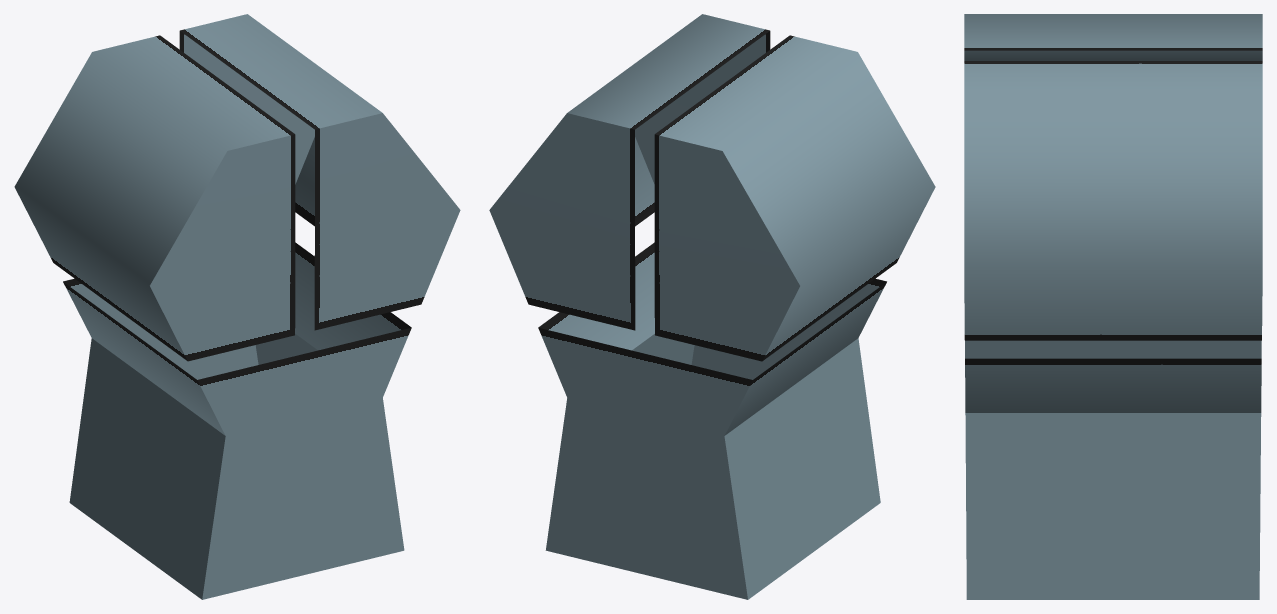
The model's file is C_GH_Body_M2.FBX.
3 renders of one model, left to right at view 1: azimuth 30°, elevation 25°; view 2: azimuth 150°, elevation 25°; view 3: azimuth 270°, elevation 25°, orthographic. The views are drawn at different scales.
Parts seen in each view (by area): view 1: Body; view 2: Body; view 3: Body.
Boxes of the visible parts, x1,y1,x2,y2 form: Body: [14, 14, 460, 599]; Body: [489, 14, 935, 599]; Body: [964, 14, 1262, 599].
Size of the model in its own units: 16.82 by 22.96 by 12.68.
1 material, 1 textured.
